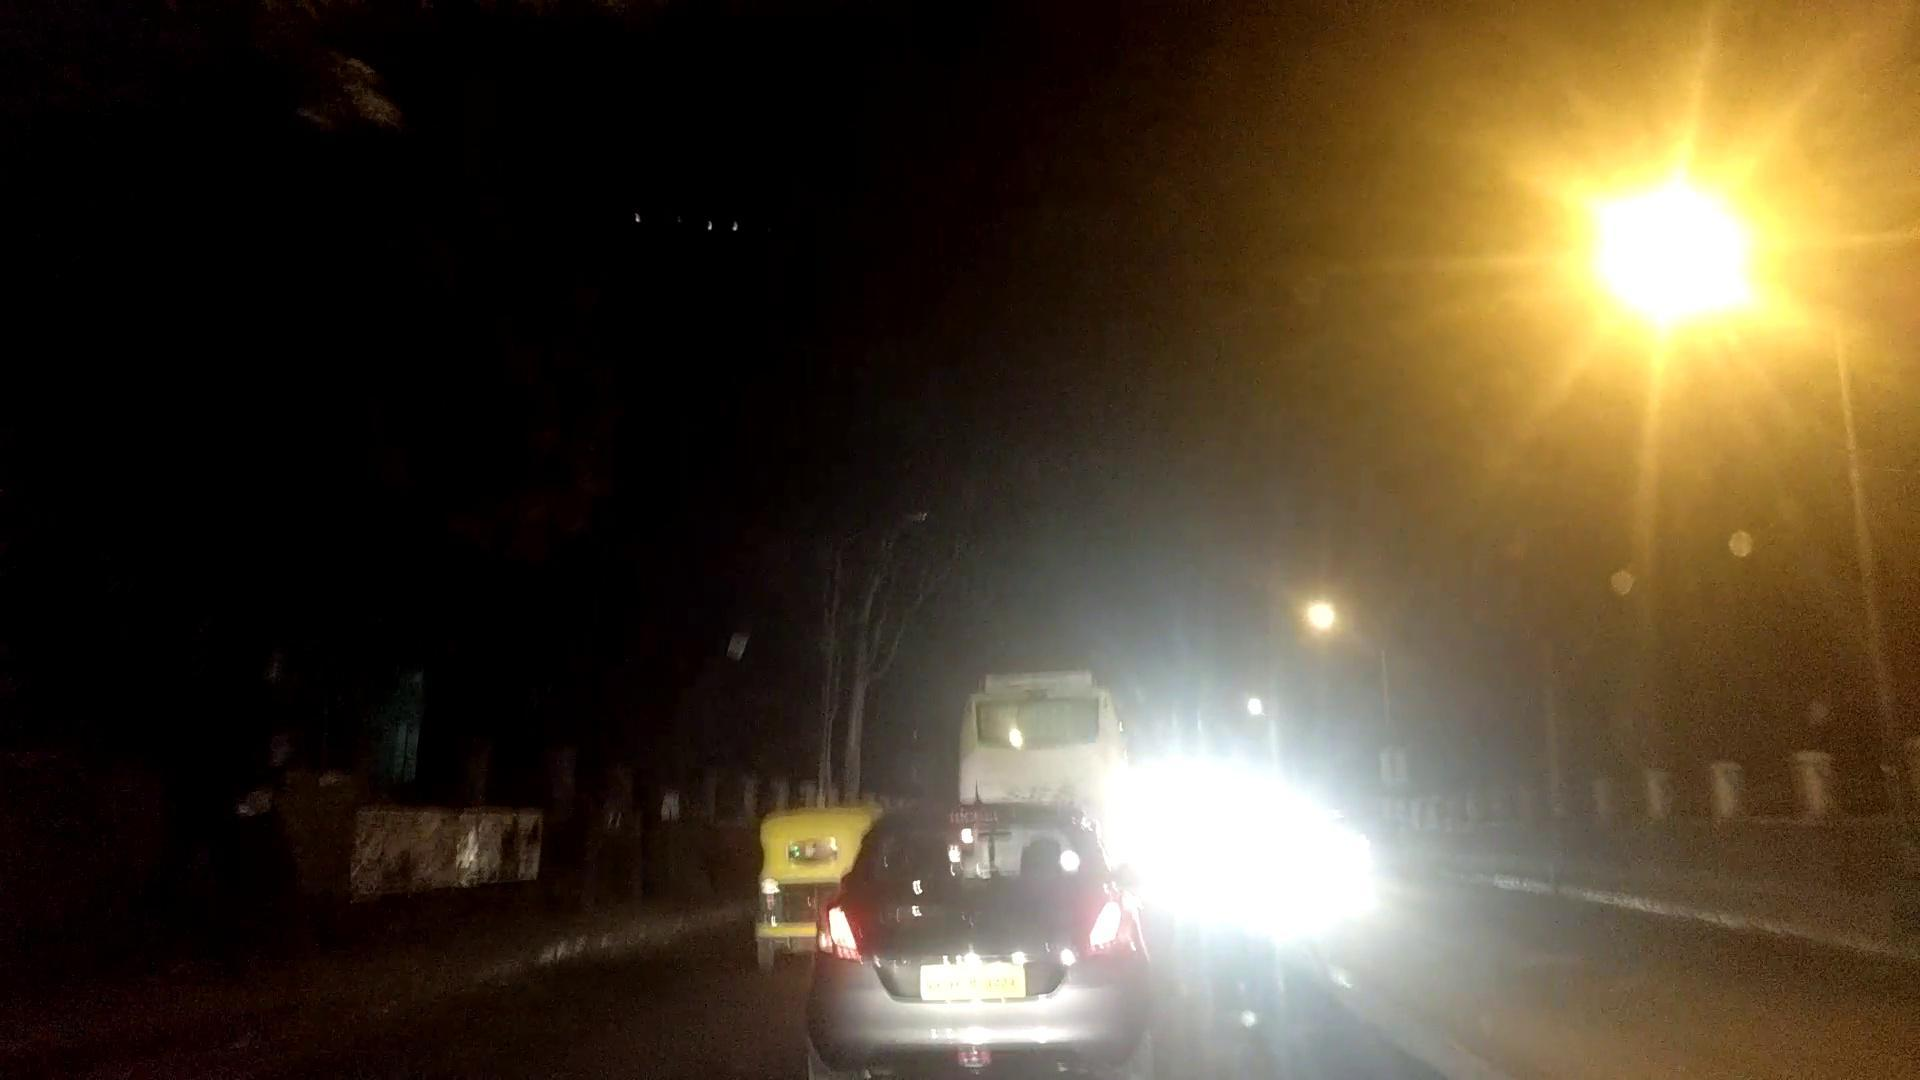on: (1370, 42, 1920, 475)
